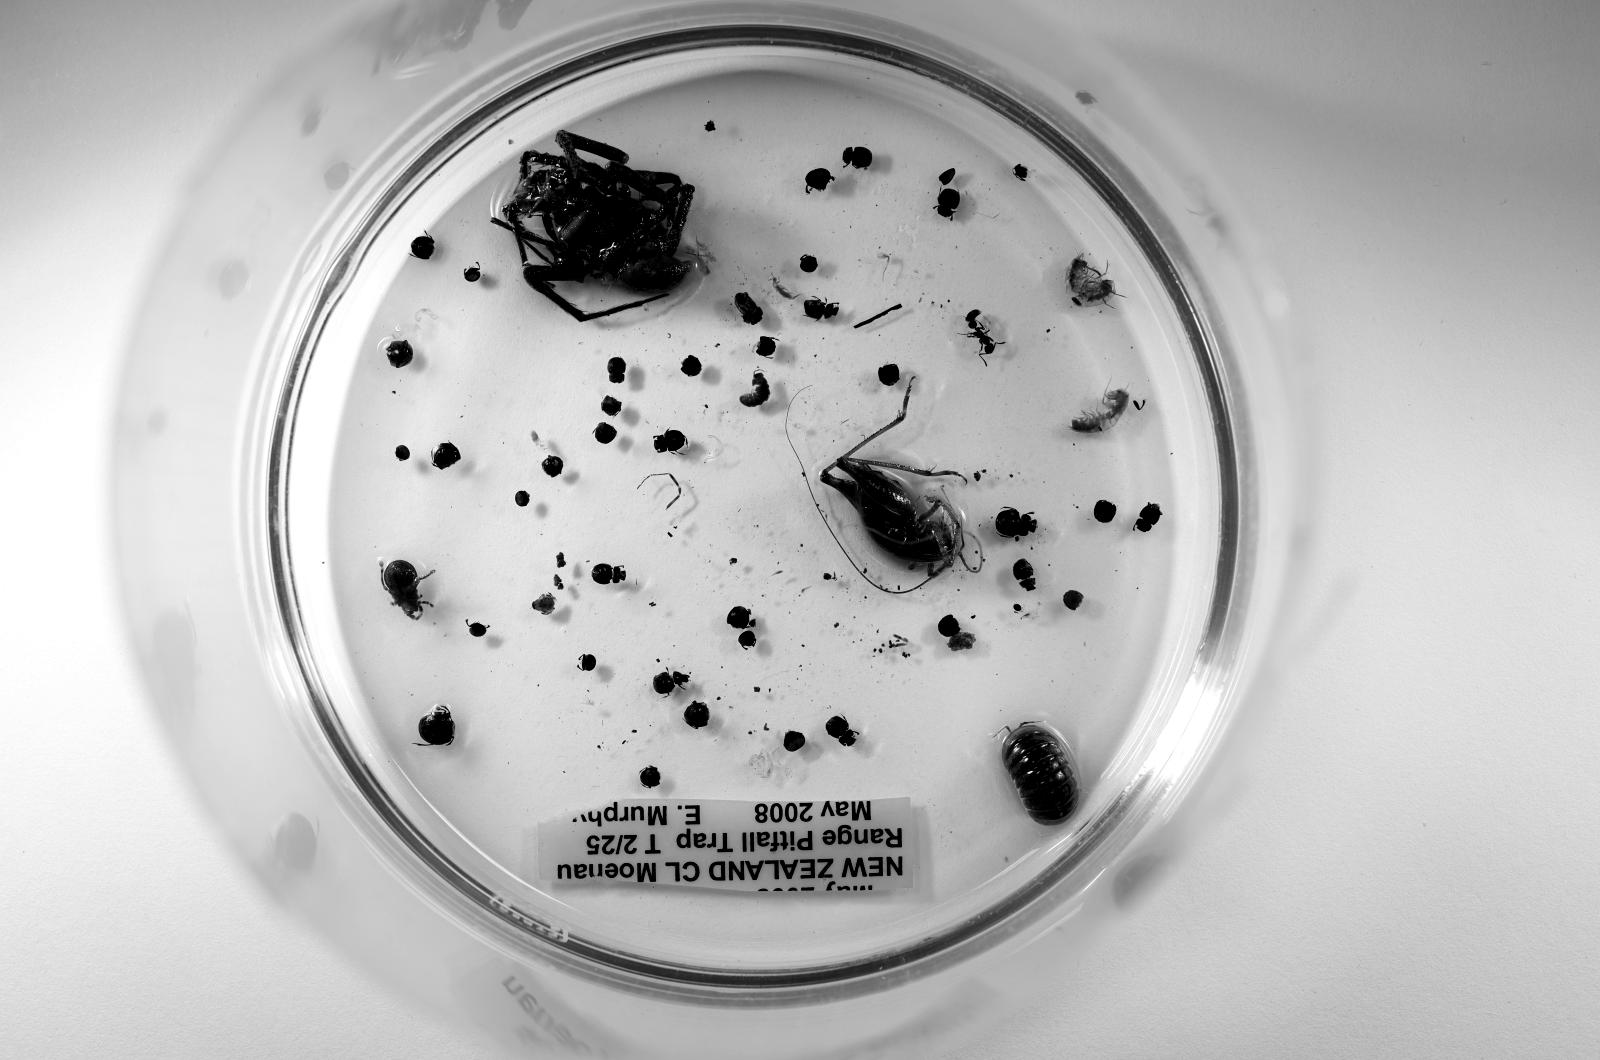amphipoda: (1071, 388, 1132, 435), (1065, 254, 1115, 308)
araneae: (497, 130, 694, 319)
coleoptera: (993, 509, 1037, 537), (825, 717, 860, 745), (653, 671, 691, 696), (653, 428, 687, 453), (590, 562, 628, 584), (803, 298, 841, 319), (1134, 503, 1162, 531), (1012, 558, 1035, 590), (938, 187, 959, 218), (843, 146, 872, 168), (607, 357, 626, 382)
formicidae: (966, 310, 1000, 357)
isopoda: (1003, 724, 1078, 826), (740, 369, 769, 407)
opiliones: (381, 558, 432, 621)
orthoptera: (822, 382, 966, 577)
